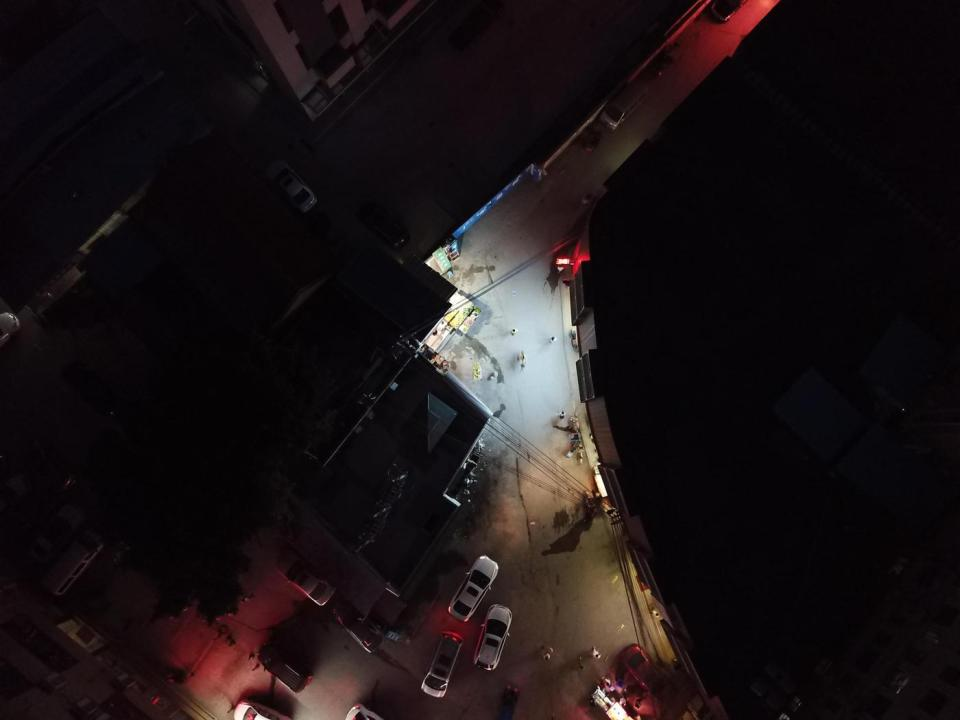car: (618, 642, 680, 707), (275, 551, 338, 607), (448, 554, 499, 622), (263, 158, 318, 214), (420, 630, 465, 698), (258, 640, 314, 694), (332, 600, 384, 654), (472, 604, 513, 671), (356, 202, 410, 251), (232, 699, 291, 720), (712, 0, 749, 23), (496, 685, 520, 720)
van: (599, 80, 650, 131)
